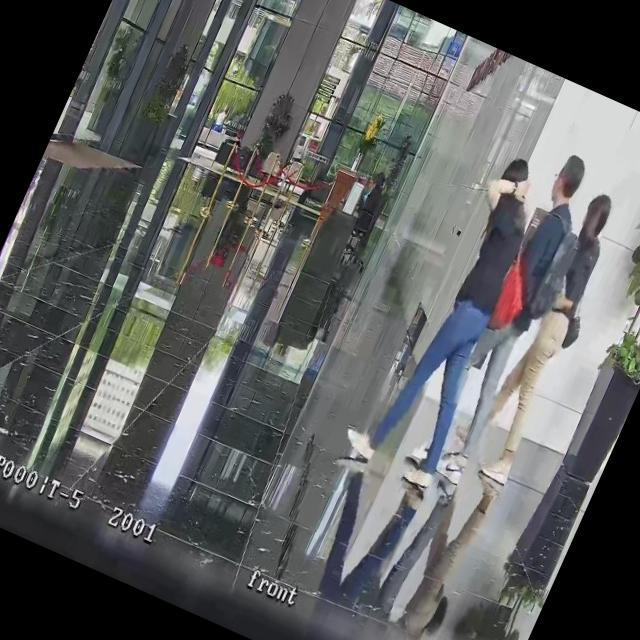person: (344, 135, 570, 491), (419, 148, 610, 489), (462, 188, 630, 490), (346, 169, 396, 240), (212, 106, 232, 134)
